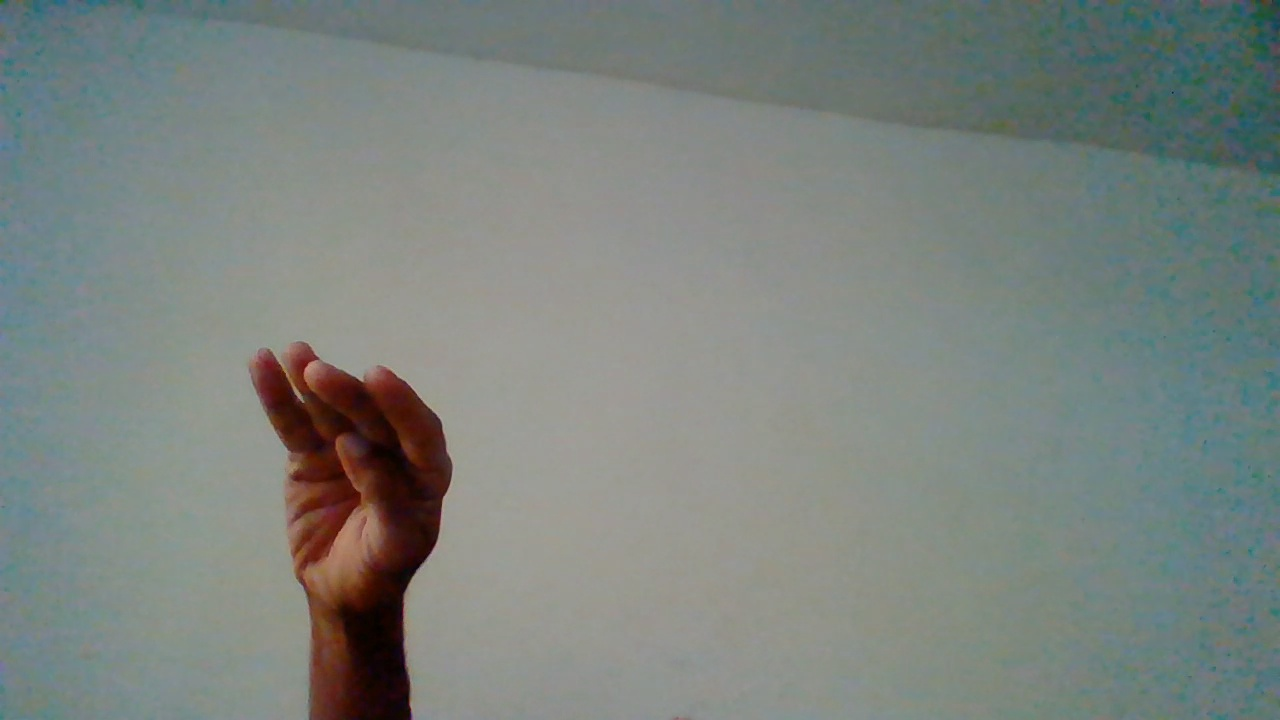me: (249, 341, 456, 712)
